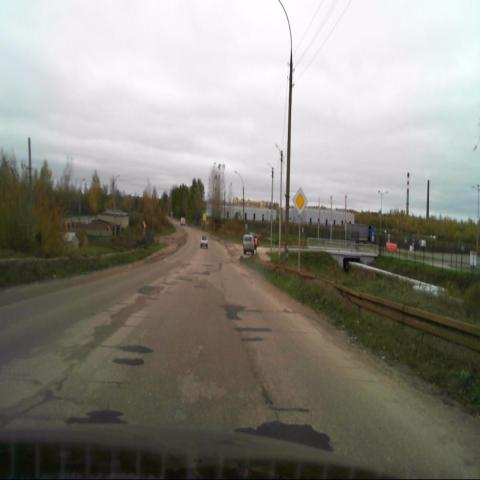2_1: (292, 188, 308, 216)
